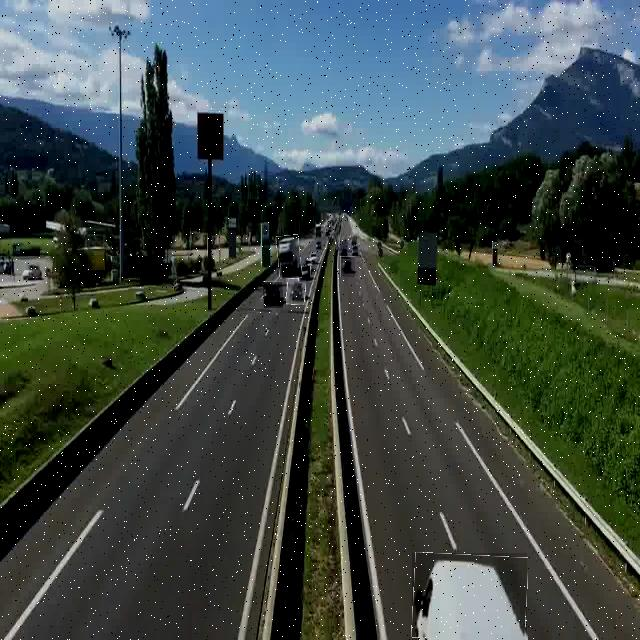Car: (263, 281, 283, 308), (286, 278, 306, 305), (340, 256, 355, 277), (299, 264, 311, 282)
Truck: (412, 553, 527, 640), (277, 235, 301, 278)
